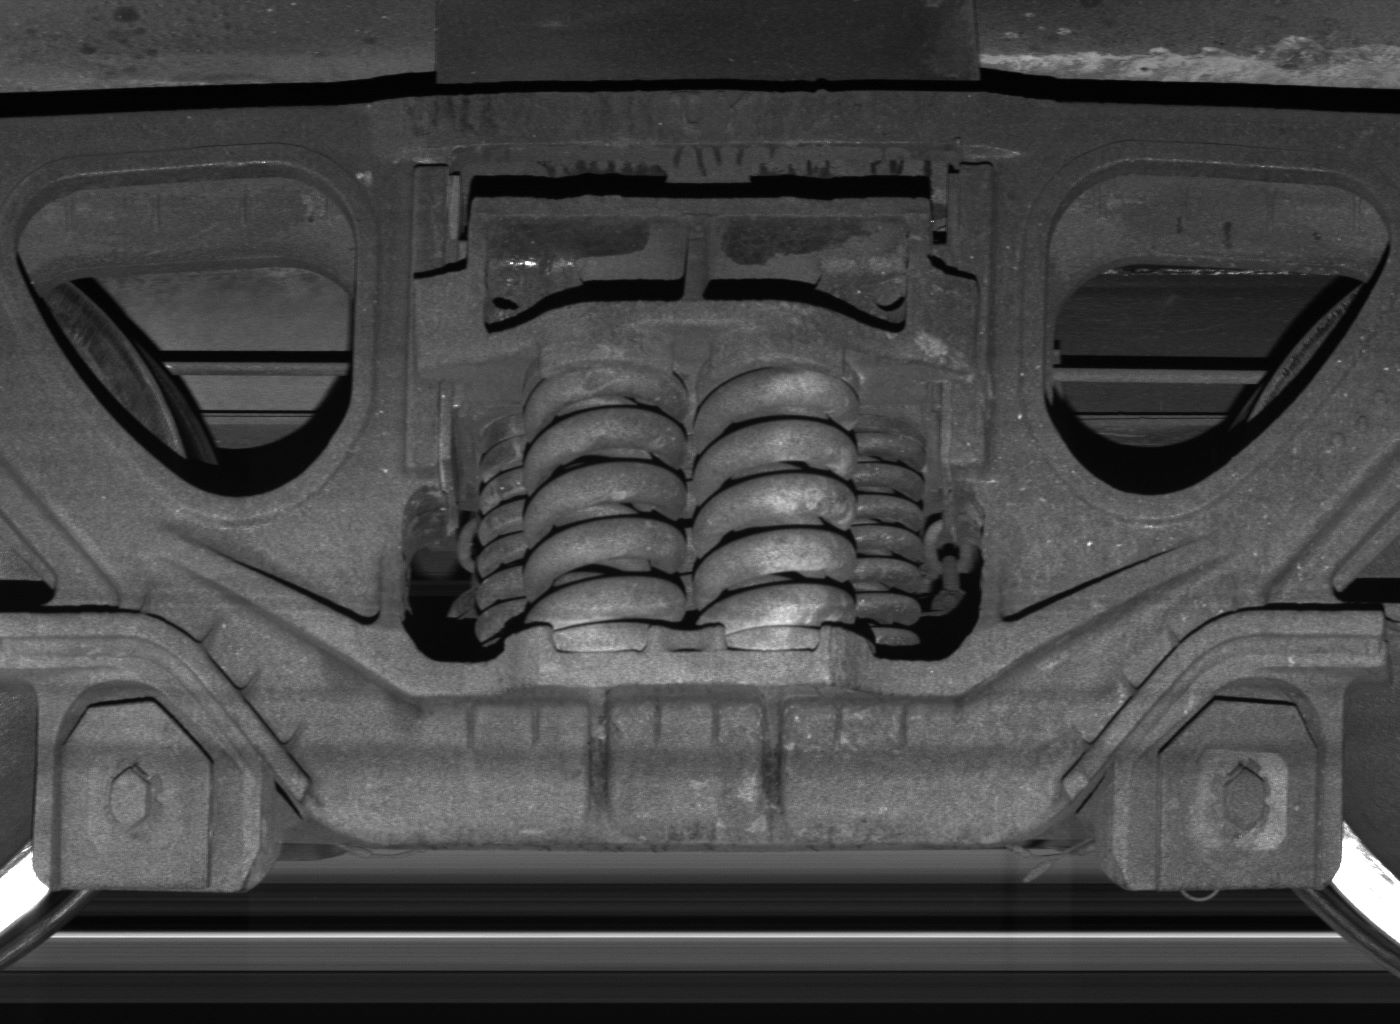normal: (1115, 676, 1343, 894), (34, 679, 262, 890)
